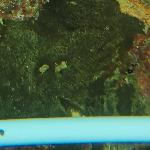dead: (1, 9, 146, 145)
